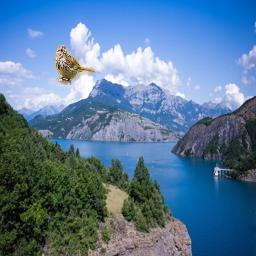Sparrow: (55, 45, 95, 85)
